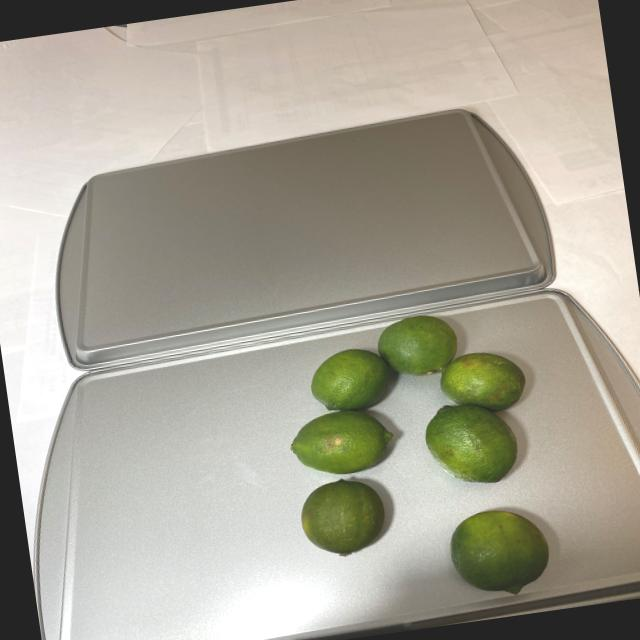lemon: (285, 306, 565, 626)
